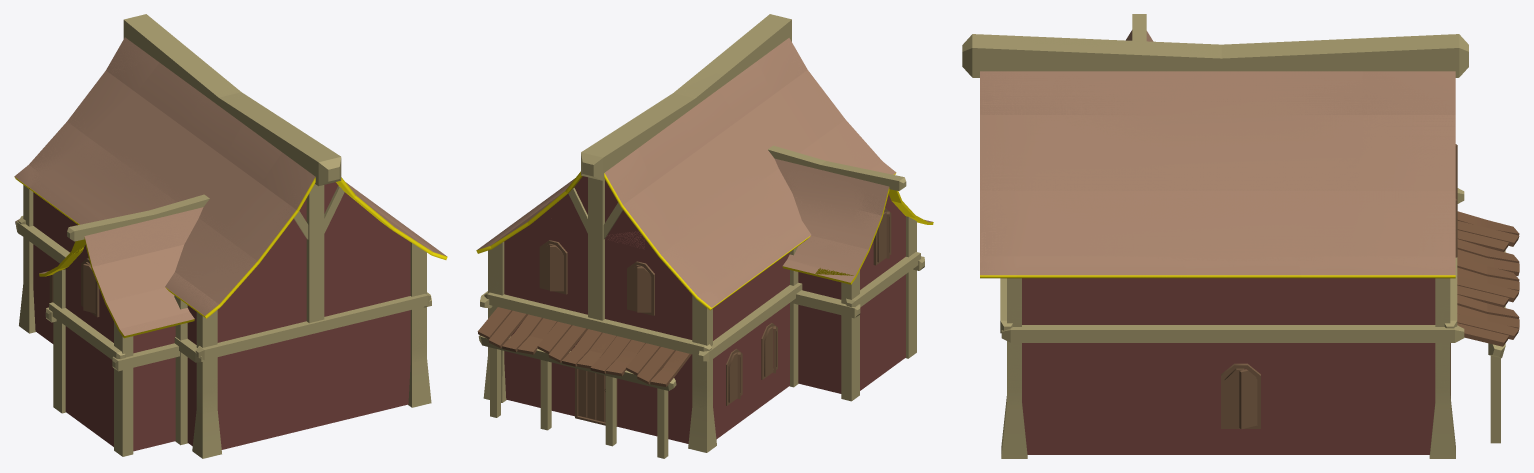
The model's file is House_02_FBX.fbx.
3 renders of one model, left to right at view 1: azimuth 30°, elevation 25°; view 2: azimuth 150°, elevation 25°; view 3: azimuth 270°, elevation 25°, orthographic. The views are drawn at different scales.
Visible parts, largest first — view 1: IntactHouse, polySurface143, polySurface78, polySurface155, polySurface135, polySurface134, polySurface45, polySurface87, polySurface85, polySurface93, polySurface167, polySurface188 (+59 smaller); view 2: IntactHouse, polySurface135, polySurface155, polySurface143, polySurface45, polySurface126, polySurface167, polySurface141, polySurface46, polySurface134, polySurface211, polySurface197 (+63 smaller); view 3: IntactHouse, polySurface173, polySurface174, polySurface104, polySurface131, polySurface130, polySurface45, polySurface161, polySurface114, polySurface150, polySurface102, polySurface106 (+30 smaller).
Boxes of the visible parts, <box> form: IntactHouse: <box>15,15,445,455</box>; polySurface143: <box>91,93,182,176</box>; polySurface78: <box>313,368,410,427</box>; polySurface155: <box>144,127,224,201</box>; polySurface135: <box>217,184,298,263</box>; polySurface134: <box>175,232,258,306</box>; polySurface45: <box>248,111,341,186</box>; polySurface87: <box>332,276,410,343</box>; polySurface85: <box>323,341,410,385</box>; polySurface93: <box>266,343,331,396</box>; polySurface167: <box>197,157,260,231</box>; polySurface188: <box>125,207,202,257</box>; IntactHouse: <box>478,14,930,458</box>; polySurface135: <box>773,70,845,147</box>; polySurface155: <box>698,121,777,189</box>; polySurface143: <box>653,150,720,237</box>; polySurface45: <box>702,14,791,85</box>; polySurface126: <box>621,183,682,256</box>; polySurface167: <box>738,95,806,168</box>; polySurface141: <box>638,117,697,182</box>; polySurface46: <box>581,123,646,180</box>; polySurface134: <box>807,119,881,169</box>; polySurface211: <box>553,227,644,278</box>; polySurface197: <box>504,368,574,416</box>; IntactHouse: <box>972,31,1519,454</box>; polySurface173: <box>1021,191,1183,256</box>; polySurface174: <box>1035,115,1176,190</box>; polySurface104: <box>1090,393,1265,454</box>; polySurface131: <box>1357,115,1455,190</box>; polySurface130: <box>1351,191,1455,256</box>; polySurface45: <box>962,34,1148,77</box>; polySurface161: <box>1177,191,1296,256</box>; polySurface114: <box>1088,292,1227,394</box>; polySurface150: <box>1271,115,1361,190</box>; polySurface102: <box>1336,395,1434,454</box>; polySurface106: <box>1255,395,1346,454</box>.
Bounding box in the file's own units: 7.54 × 6.39 × 9.24.
